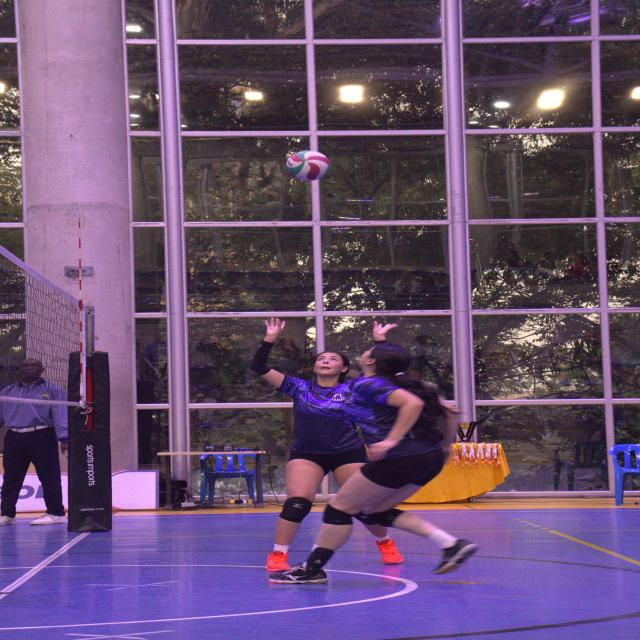volleyball: (284, 150, 332, 182)
